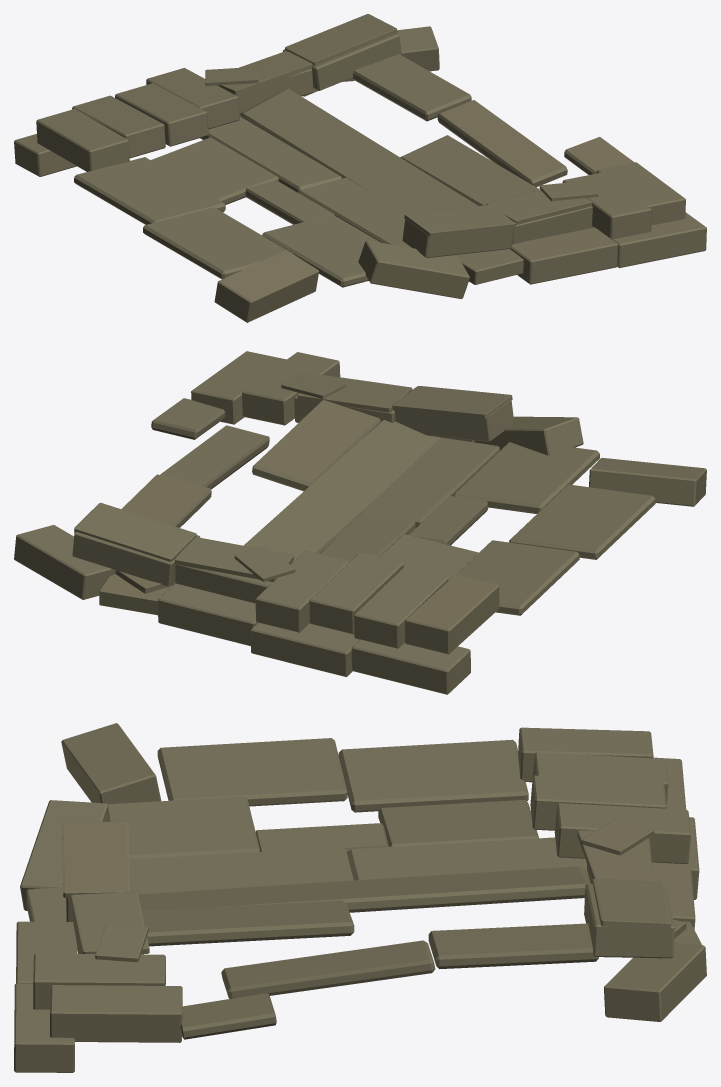
File: debris.fbx
The picture shows the model from 3 angles, top to bottom: view 1: azimuth 30°, elevation 25°; view 2: azimuth 150°, elevation 25°; view 3: azimuth 270°, elevation 25°; orthographic projection. The views are drawn at different scales.
Visible parts, largest first — view 1: pCube85, pCube79, pCube81, pCube88, pCube67, pCube86, pCube35, pCube68, pCube80, pCube71, pCube87, pCube84 (+23 smaller); view 2: pCube85, pCube81, pCube35, pCube86, pCube83, pCube79, pCube17, pCube59, pCube56, pCube67, pCube54, pCube60 (+23 smaller); view 3: pCube85, pCube79, pCube81, pCube83, pCube86, pCube35, pCube73, pCube88, pCube84, pCube87, pCube80, pCube67 (+22 smaller).
Part boxes in pixels (x1,y1,x2,y2): pCube85: (240,88,477,213); pCube79: (74,157,225,224); pCube81: (143,207,292,279); pCube88: (437,100,567,187); pCube67: (214,250,318,322); pCube86: (400,135,539,205); pCube35: (262,214,380,287); pCube68: (358,240,469,298); pCube80: (151,137,278,204); pCube71: (510,227,618,284); pCube87: (353,54,471,121); pCube84: (200,116,341,192); pCube85: (244,420,440,564); pCube81: (509,484,655,559); pCube35: (453,442,599,513); pCube86: (252,400,380,491); pCube83: (363,437,499,528); pCube79: (456,540,579,615); pCube17: (405,574,499,654); pCube59: (351,639,470,694); pCube56: (158,583,257,646); pCube67: (589,458,706,506); pCube54: (309,552,403,634); pCube60: (14,525,115,599); pCube85: (138,866,590,912); pCube79: (338,739,528,812); pCube81: (157,738,347,806); pCube83: (129,847,353,894); pCube86: (141,900,354,946); pCube35: (108,796,260,859); pCube73: (50,985,182,1042); pCube88: (221,940,435,998); pCube84: (347,837,587,880); pCube87: (428,923,598,969); pCube80: (378,800,538,846); pCube67: (61,723,161,804).
Bounding box in the file's own units: 1227 × 200 × 1252.
